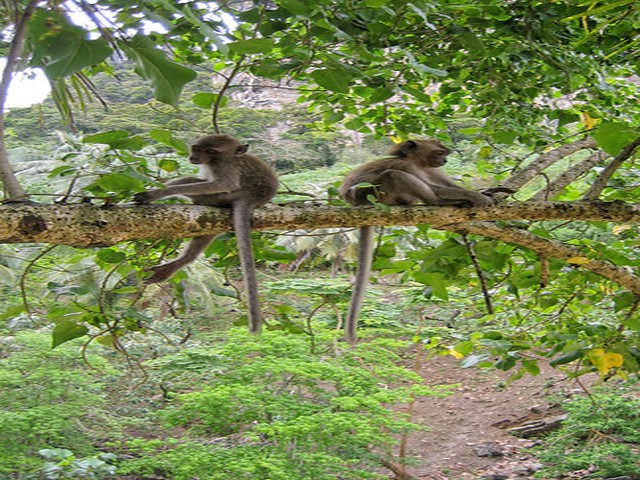Monkey: (332, 137, 491, 303), (148, 130, 283, 283)
